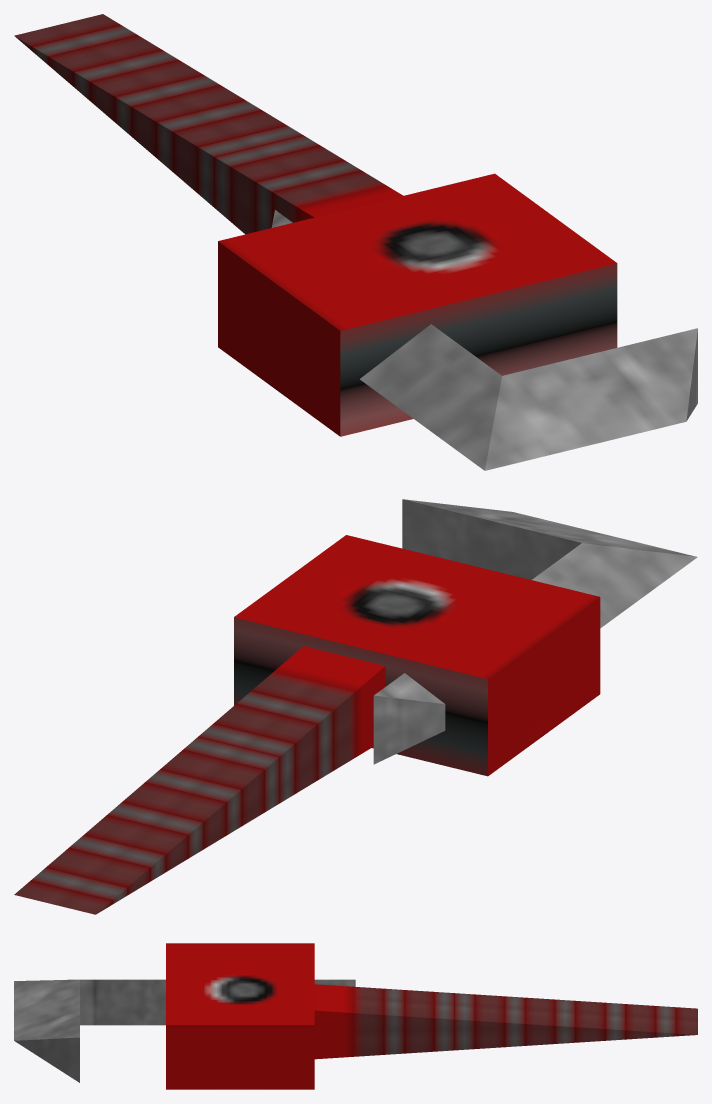
Rendered from Wrench.fbx.
3 renders of one model, top to bottom at view 1: azimuth 30°, elevation 25°; view 2: azimuth 150°, elevation 25°; view 3: azimuth 270°, elevation 25°, orthographic. The views are drawn at different scales.
Parts seen in each view (by area): view 1: Wrench_01; view 2: Wrench_01; view 3: Wrench_01.
Boxes of the visible parts, left/top/right/bottom form: Wrench_01: left=14, top=14, right=697, bottom=470; Wrench_01: left=14, top=499, right=697, bottom=914; Wrench_01: left=14, top=943, right=697, bottom=1089.
Bounding box in the file's own units: 0.1717 × 0.0607 × 0.5846.
